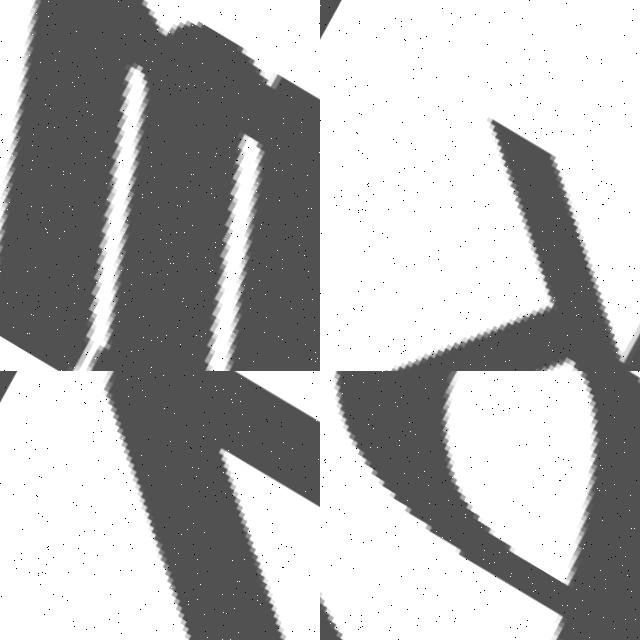E: (330, 371, 640, 640)
K: (320, 0, 640, 371)
M: (0, 0, 320, 371)
Z: (0, 371, 320, 640)
